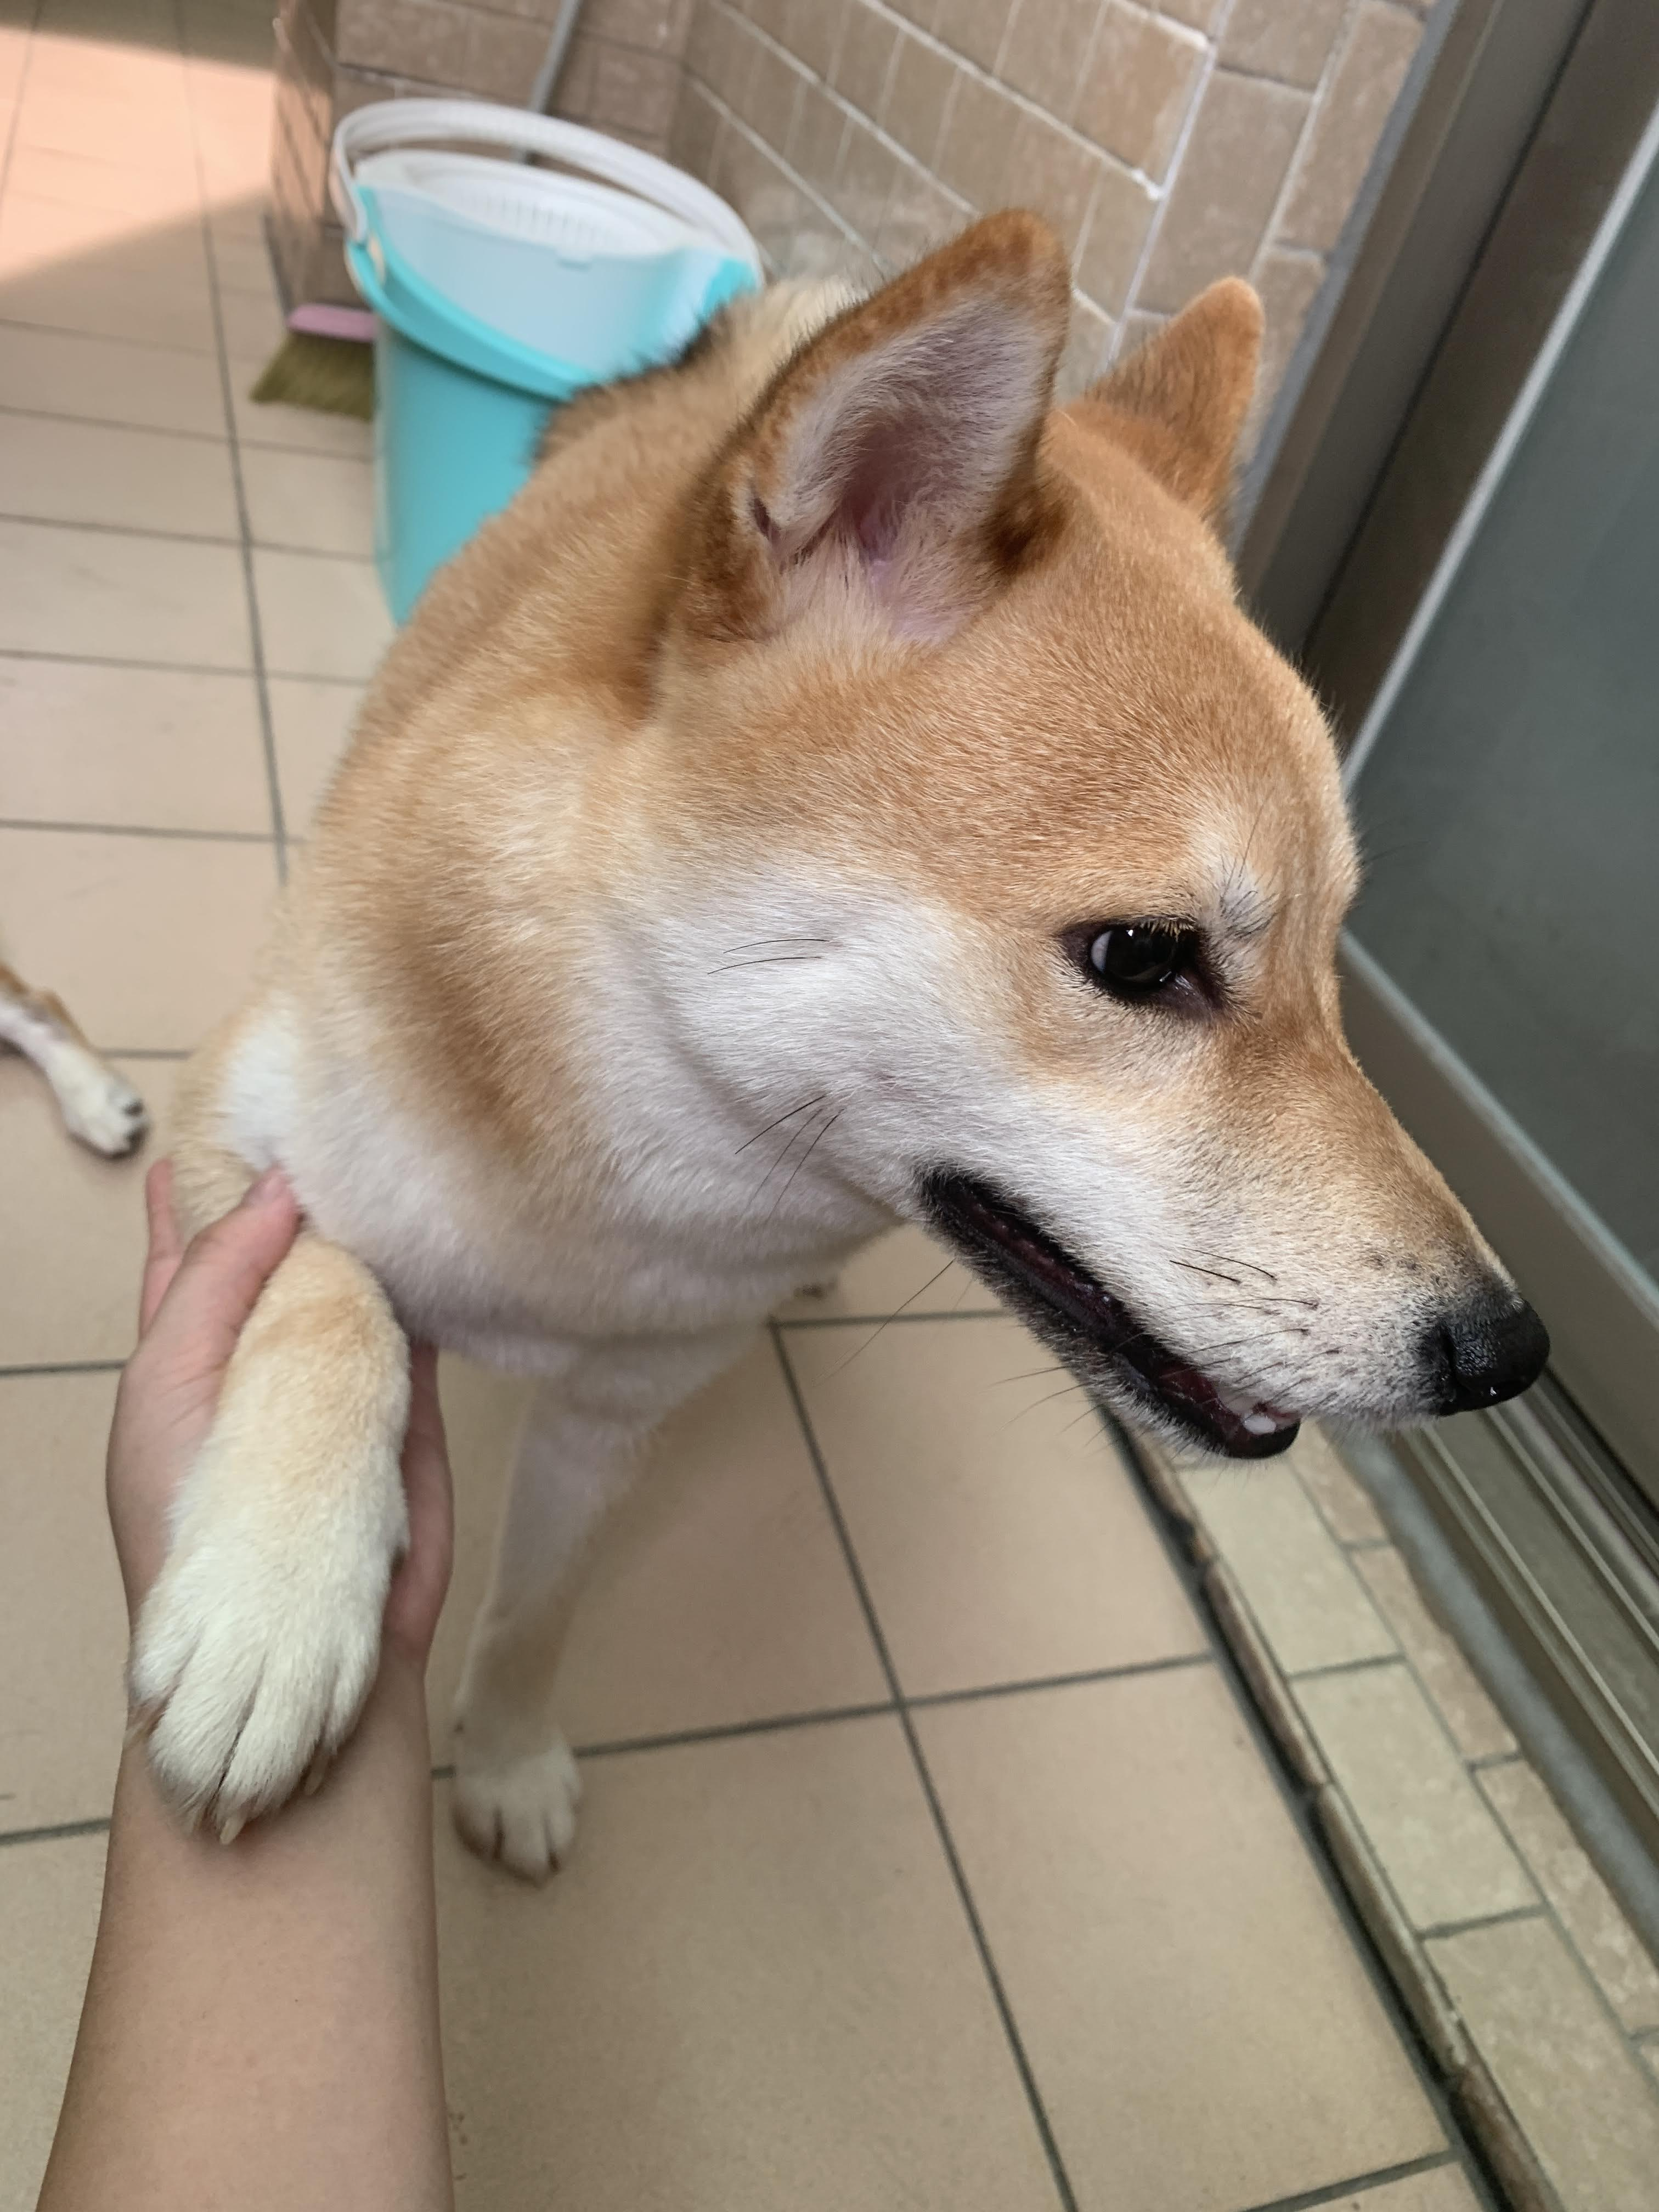Sit down: (117, 146, 1525, 1898)
